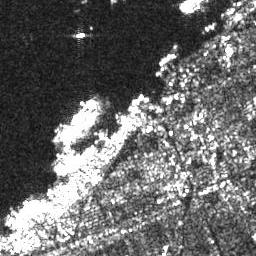ship: (157, 50, 176, 66), (73, 30, 86, 40)
